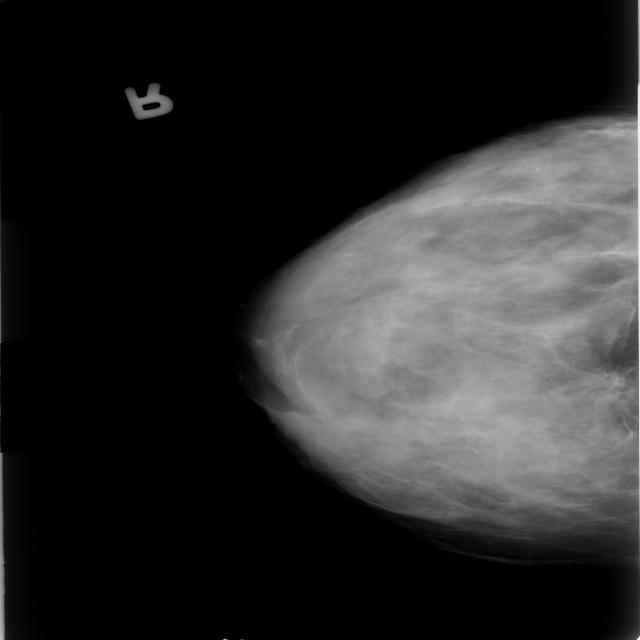normal: (228, 109, 640, 552)
